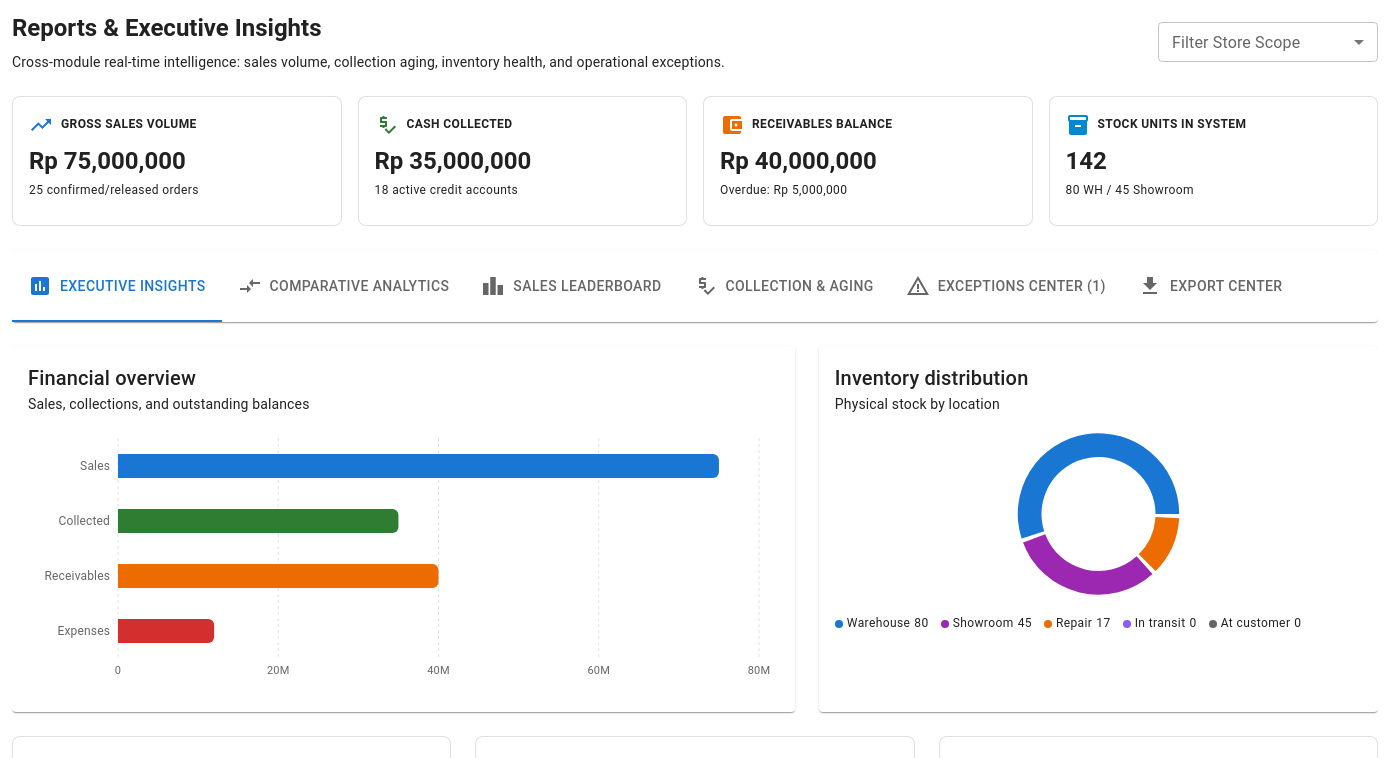
Test: DashboardPage › switches tabs and displays leaderboard, aging, exceptions, and export center
Note: Switch to Sales Leaderboard
Step 1. Click the tab "Sales Leaderboard" → (571, 286), box 465,250 -> 678,322
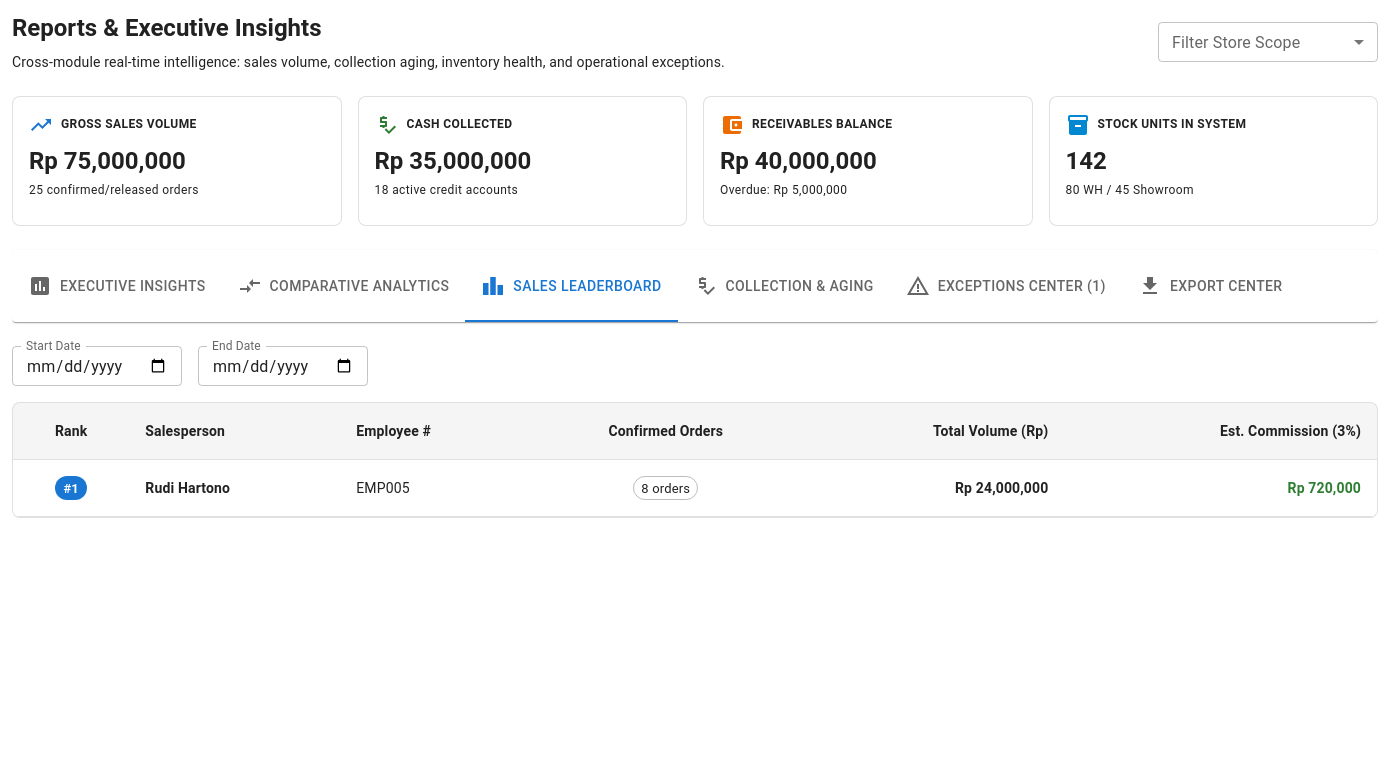
Expected: the text "Rudi Hartono" is shown, 145,480 -> 230,496
Expected: the text "EMP005" is shown, 340,460 -> 533,517
Note: Switch to Collection & Aging
Step 2. Click the tab "Collection & Aging" → (784, 286), box 678,250 -> 890,322
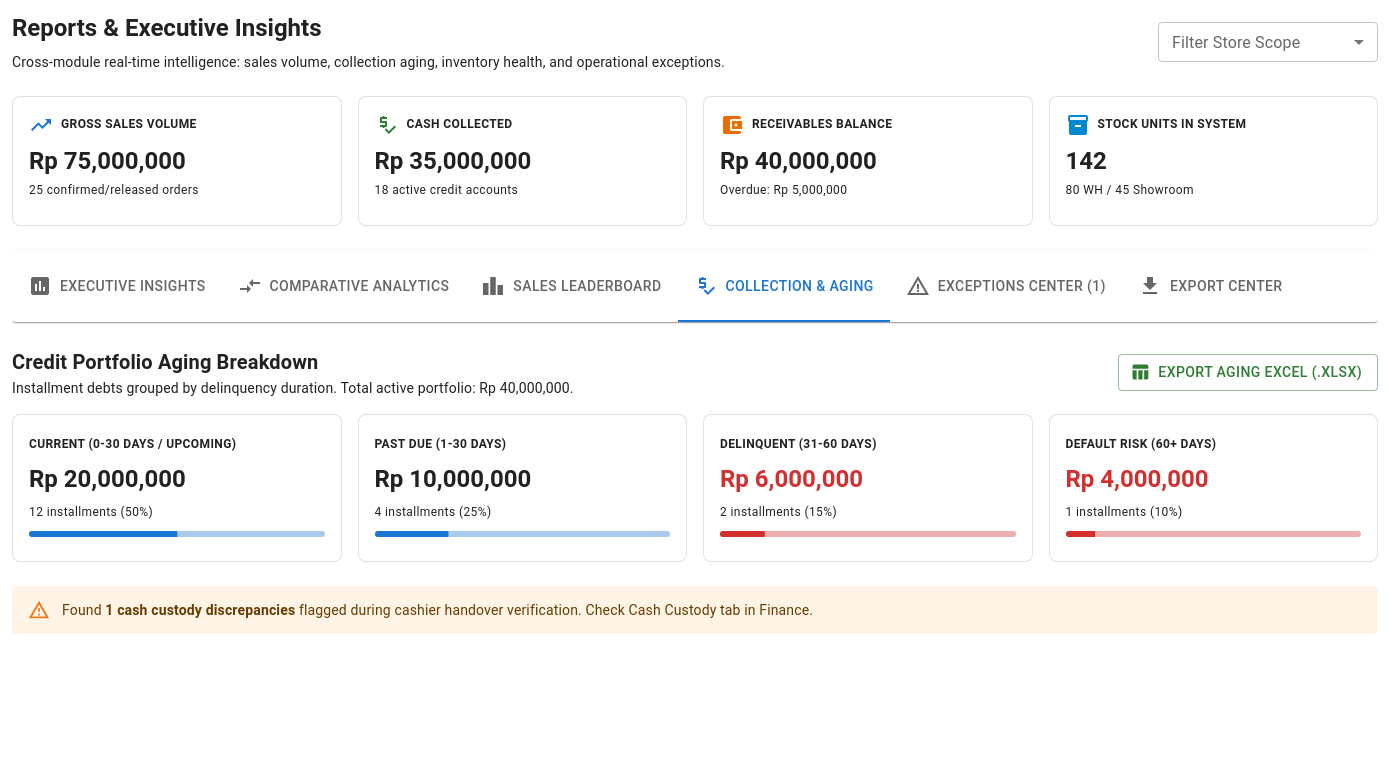
Expected: the heading "Credit Portfolio Aging Breakdown" is shown, 12,350 -> 318,374
Expected: the text "CURRENT (0-30 DAYS / UPCOMING)" is shown, 29,438 -> 236,452
Note: Switch to Exceptions Center
Step 3. Click the tab "Exceptions Center (1)" → (1006, 286), box 890,250 -> 1122,322
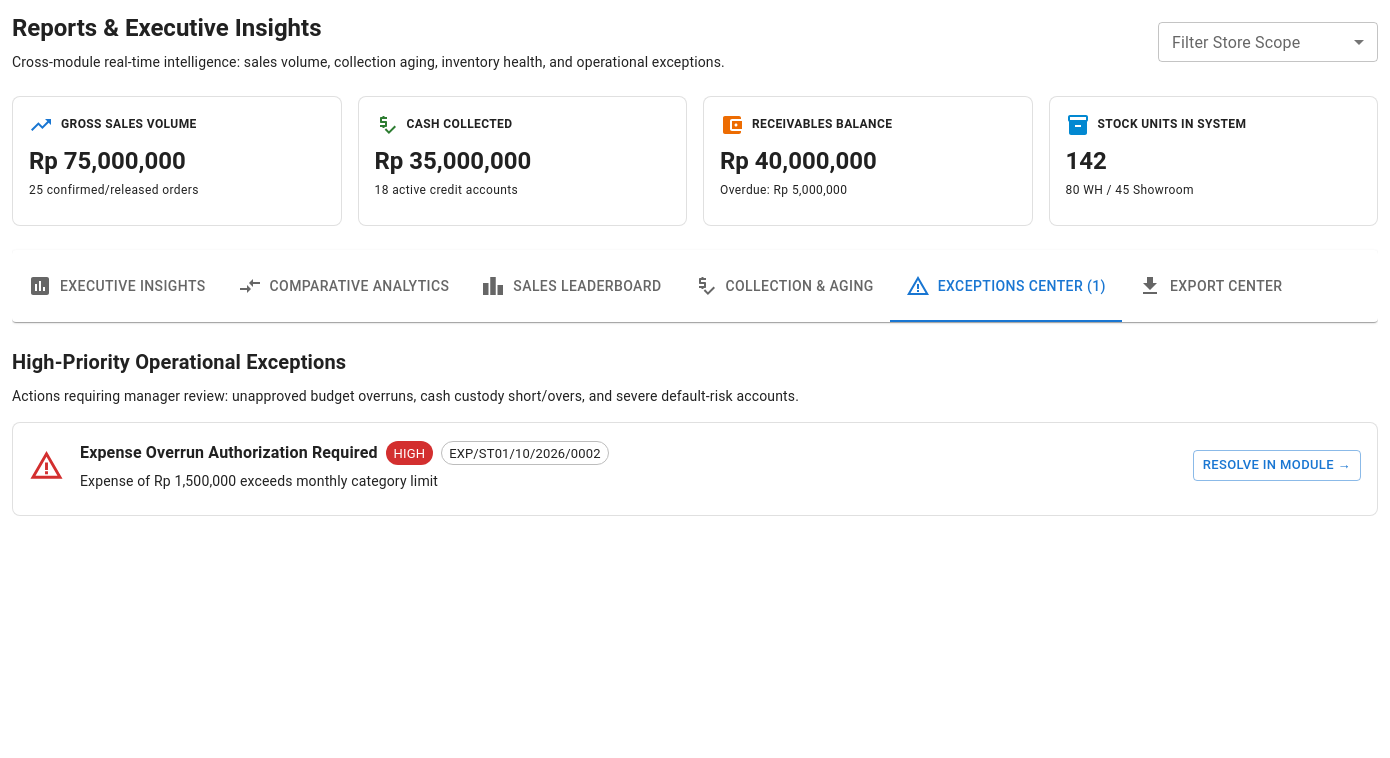
Expected: the heading "Expense Overrun Authorization Required" is shown, 80,440 -> 378,468
Expected: the button "Resolve in Module →" is shown, 1193,450 -> 1361,481
Note: Switch to Export Center
Step 4. Click the tab "Export Center" → (1210, 286), box 1122,250 -> 1298,322
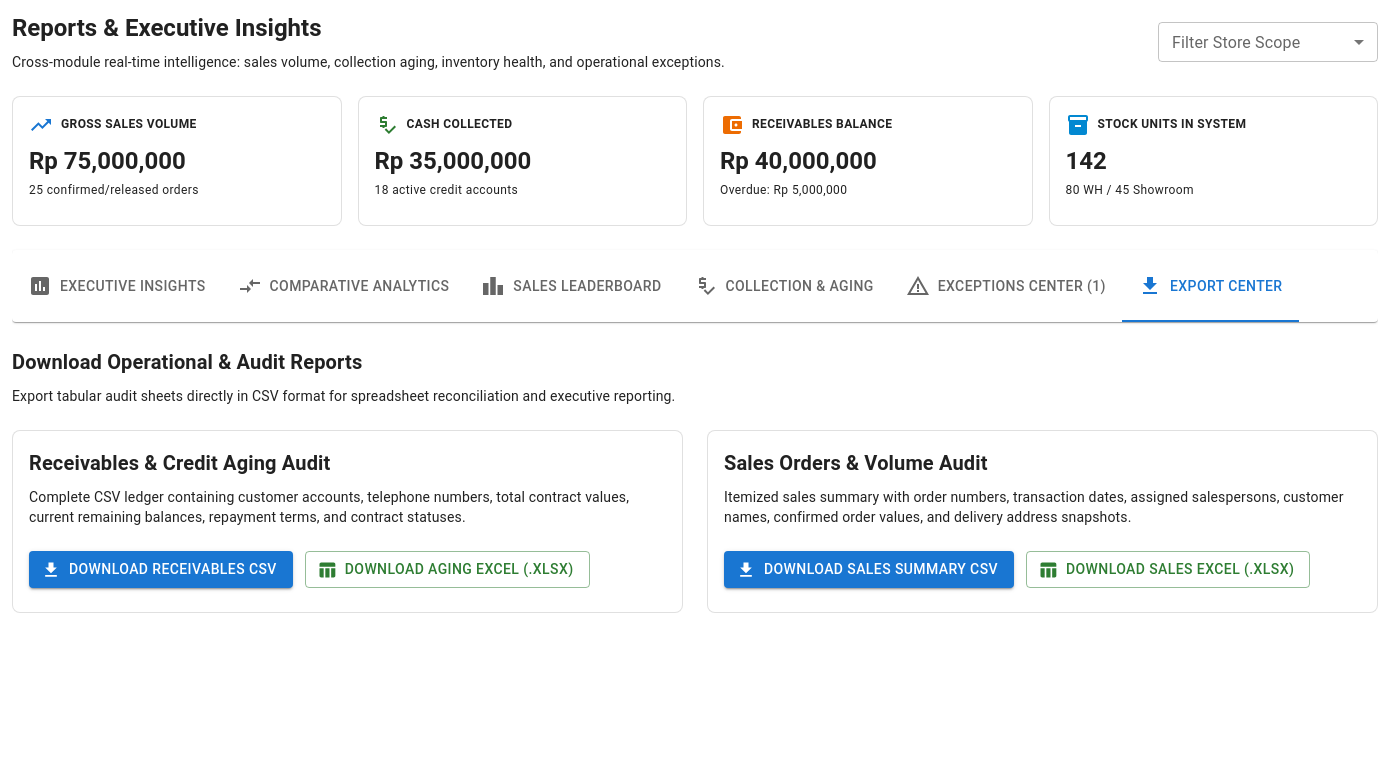
Expected: the heading "Download Operational & Audit Reports" is shown, 12,350 -> 362,374
Expected: the button "Download Receivables CSV" is shown, 29,552 -> 293,588
Expected: the button "Download Sales Summary CSV" is shown, 724,552 -> 1014,588
